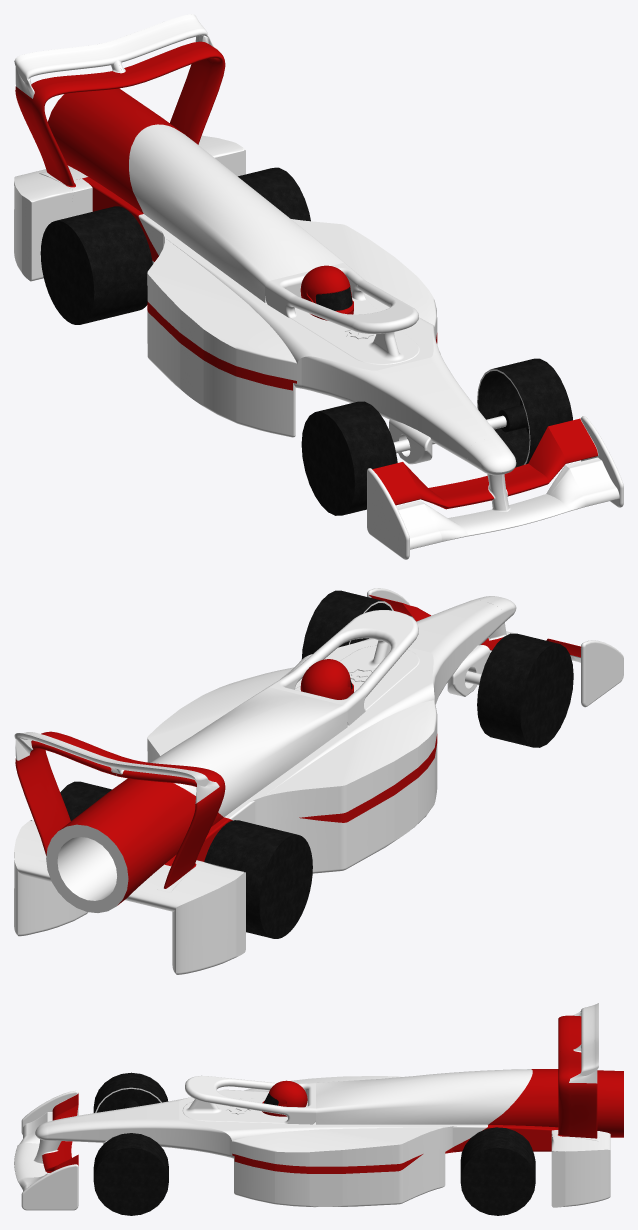
File: Kafur2.glb
3 views of the same model, one above another, from view 1: azimuth 30°, elevation 25°; view 2: azimuth 150°, elevation 25°; view 3: azimuth 270°, elevation 25° (orthographic). The views are drawn at different scales.
Visible parts, largest first — view 1: coche+pintado.001; view 2: coche+pintado.001; view 3: coche+pintado.001.
Part boxes in pixels (<box>): coche+pintado.001: <box>14,14,623,559</box>; coche+pintado.001: <box>14,588,623,974</box>; coche+pintado.001: <box>14,1003,623,1215</box>.
Size of the model in its own units: 11.5 by 10.44 by 39.51.
7 materials, 1 textured.
